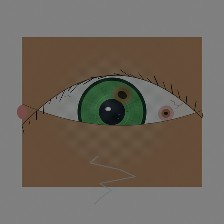foreign_body_visible: (156, 105, 176, 122)
